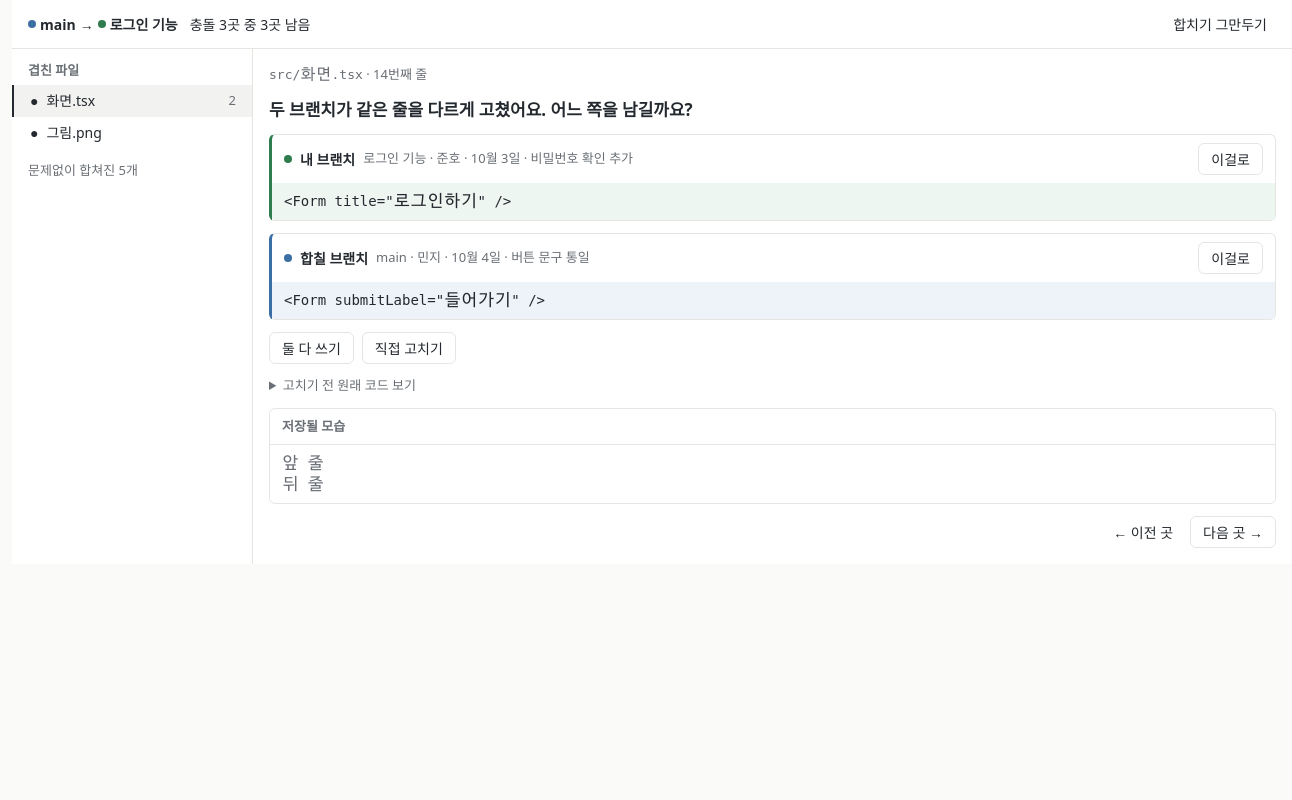
it: 충돌 해결 화면 › 직접 고치기 글상자에서는 숫자 키가 글자로 들어간다
Check: the text "<Form title=\"로그인하기\" />" is shown, box [272,183,1275,220]
Click the button "직접 고치기" at (409, 348), box [362,332,456,364]
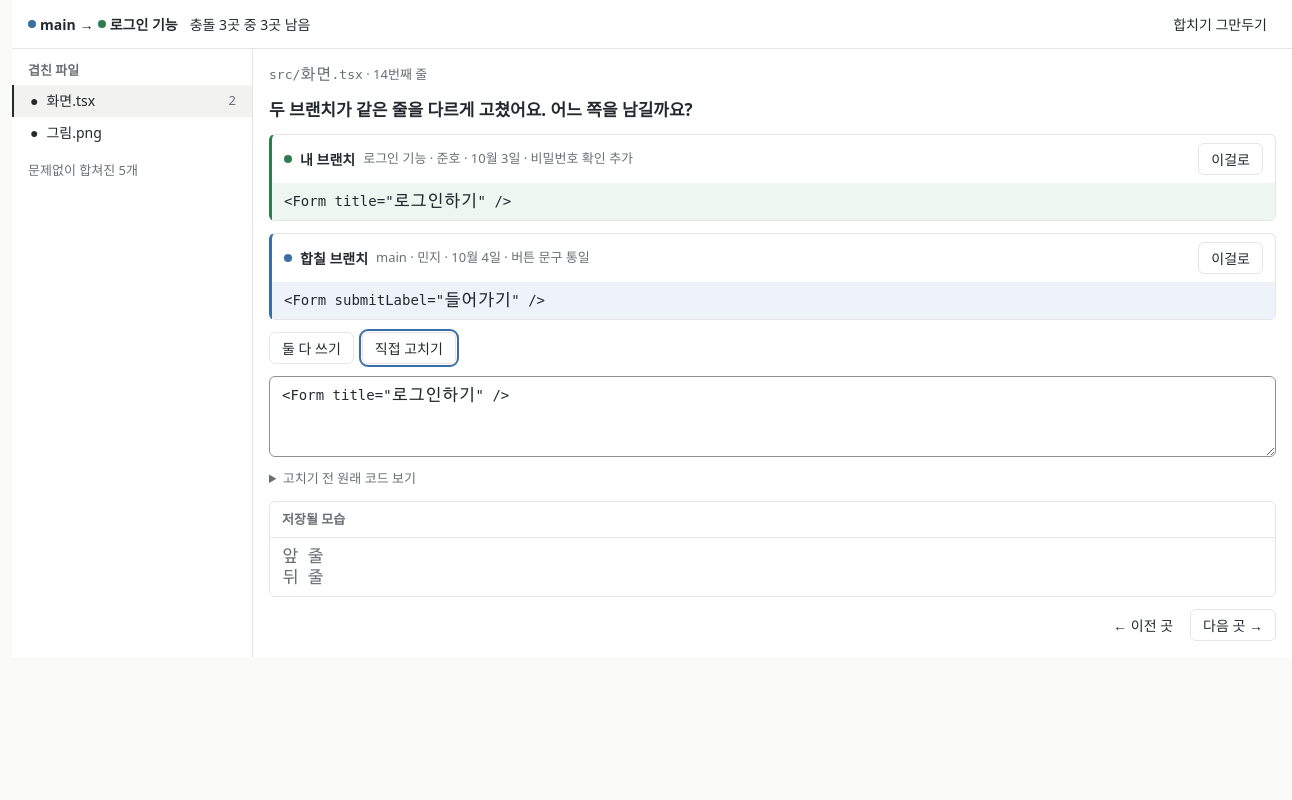
Replace the text in the text box named "직접 고치기" with "새 줄 2" at (772, 416), box [269,376,1276,457]
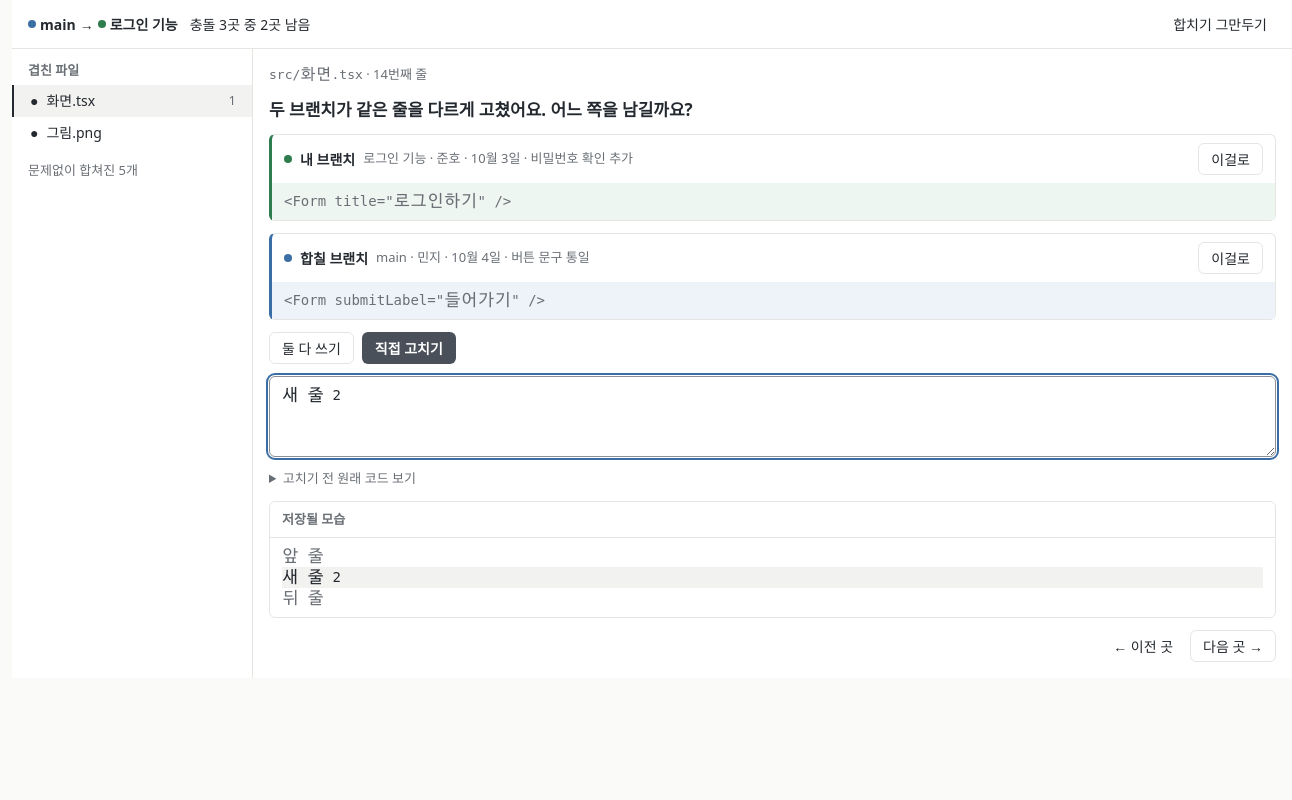
Check: the text "새 줄 2" is shown, box [282,567,1263,588]
